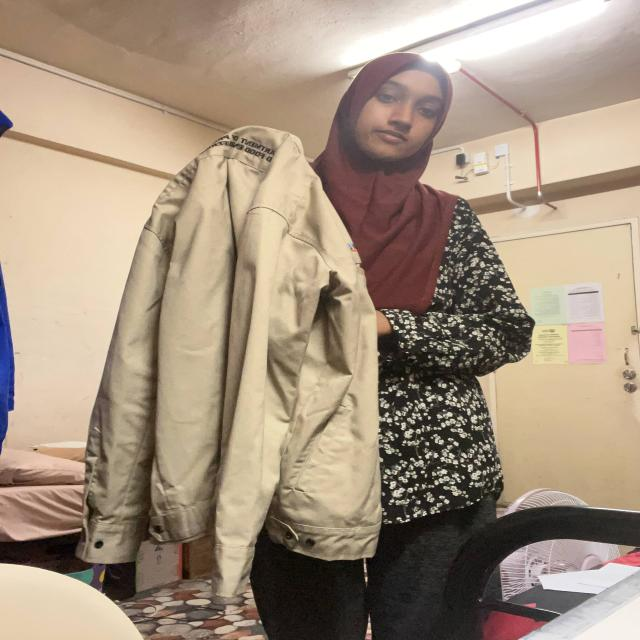person_without_labcoat: (81, 53, 533, 640)
